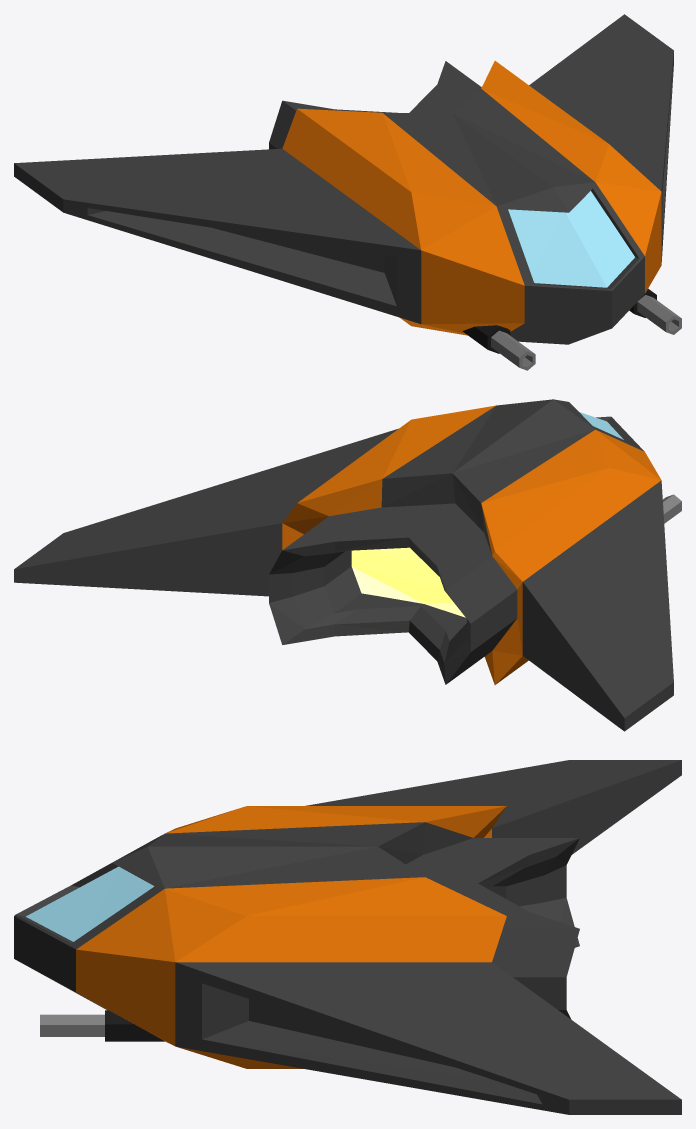
File: LPSP_DestroyerA_fixed.gltf
3 renders of one model, top to bottom at view 1: azimuth 30°, elevation 25°; view 2: azimuth 150°, elevation 25°; view 3: azimuth 270°, elevation 25°, orthographic. The views are drawn at different scales.
Visible parts, largest first — view 1: SmallFighter; view 2: SmallFighter; view 3: SmallFighter.
Part boxes in pixels (box(x1,y1,x2,y2)): SmallFighter: box(14, 14, 681, 370); SmallFighter: box(14, 399, 681, 731); SmallFighter: box(14, 760, 681, 1114).
Bounding box in the file's own units: 5.07 × 1.16 × 4.21.
2 materials, 1 textured.
